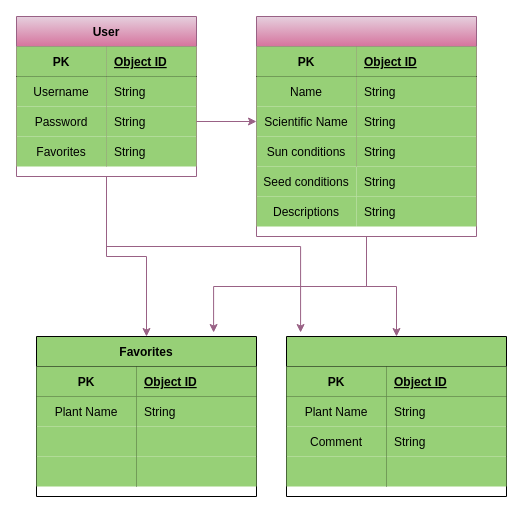
Image size: 523x513. Some labels were removed from this diagram. The box of each missing label's shape, as (x1, y1, x2, y2) in pixels:
Comments: (286, 336, 506, 496)
Plant: (256, 16, 476, 236)
